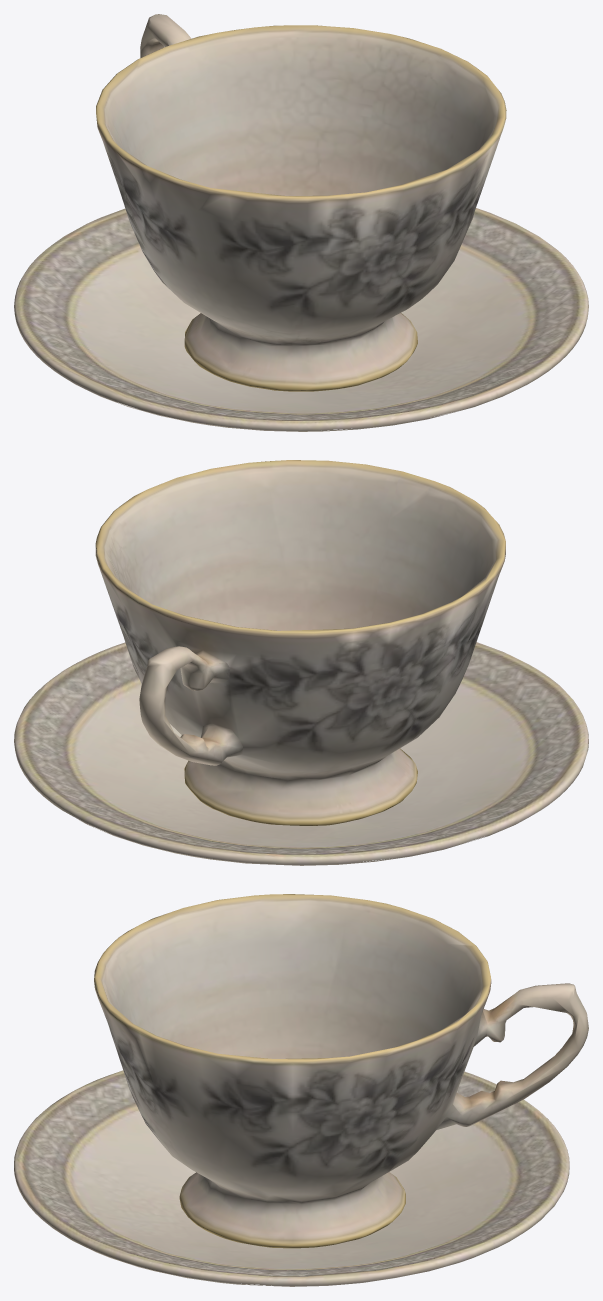
File: teacup.glb
3 renders of one model, top to bottom at view 1: azimuth 30°, elevation 25°; view 2: azimuth 150°, elevation 25°; view 3: azimuth 270°, elevation 25°, orthographic. The views are drawn at different scales.
Visible parts, largest first — view 1: tea_cup, tea_saucer; view 2: tea_cup, tea_saucer; view 3: tea_cup, tea_saucer.
Boxes of the visible parts, bbox=[...] form: tea_cup: bbox=[96, 14, 506, 391]; tea_saucer: bbox=[14, 208, 588, 431]; tea_cup: bbox=[95, 460, 505, 825]; tea_saucer: bbox=[14, 642, 588, 865]; tea_cup: bbox=[94, 894, 588, 1248]; tea_saucer: bbox=[14, 1070, 569, 1286].
Bounding box in the file's own units: 0.1486 × 0.0704 × 0.1536.
2 materials, 2 textured.
